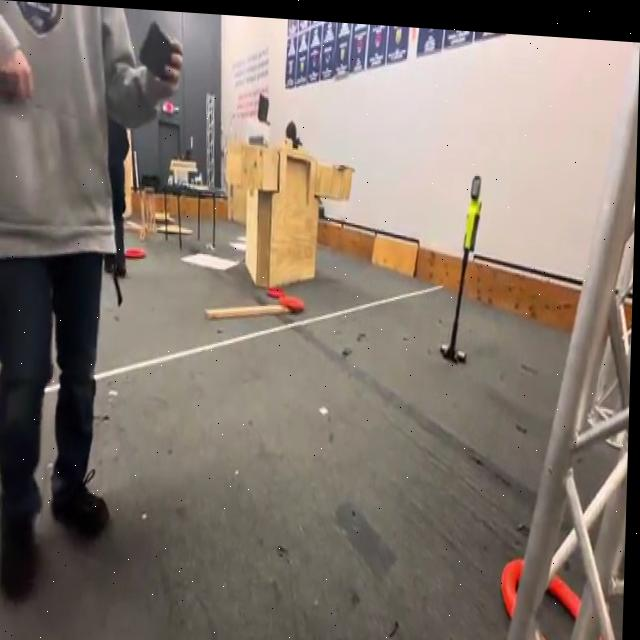note: (500, 544, 616, 640), (279, 290, 306, 309), (124, 242, 148, 262)
